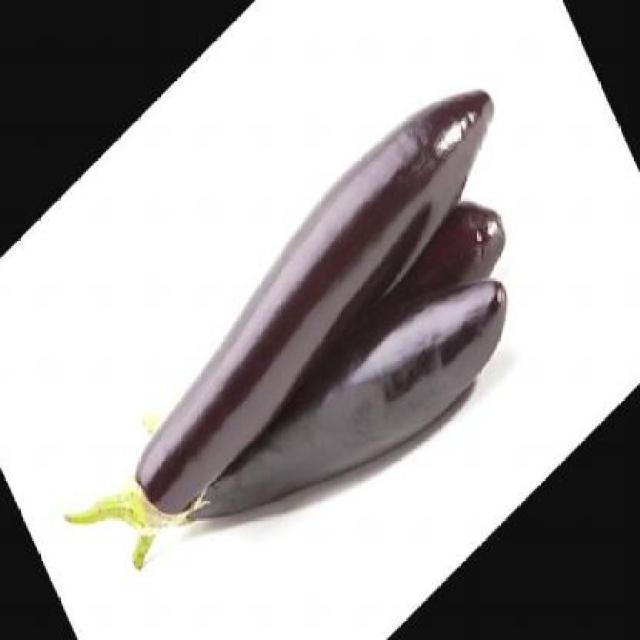eggplant: (62, 135, 524, 640), (136, 103, 515, 566), (122, 84, 510, 526)
